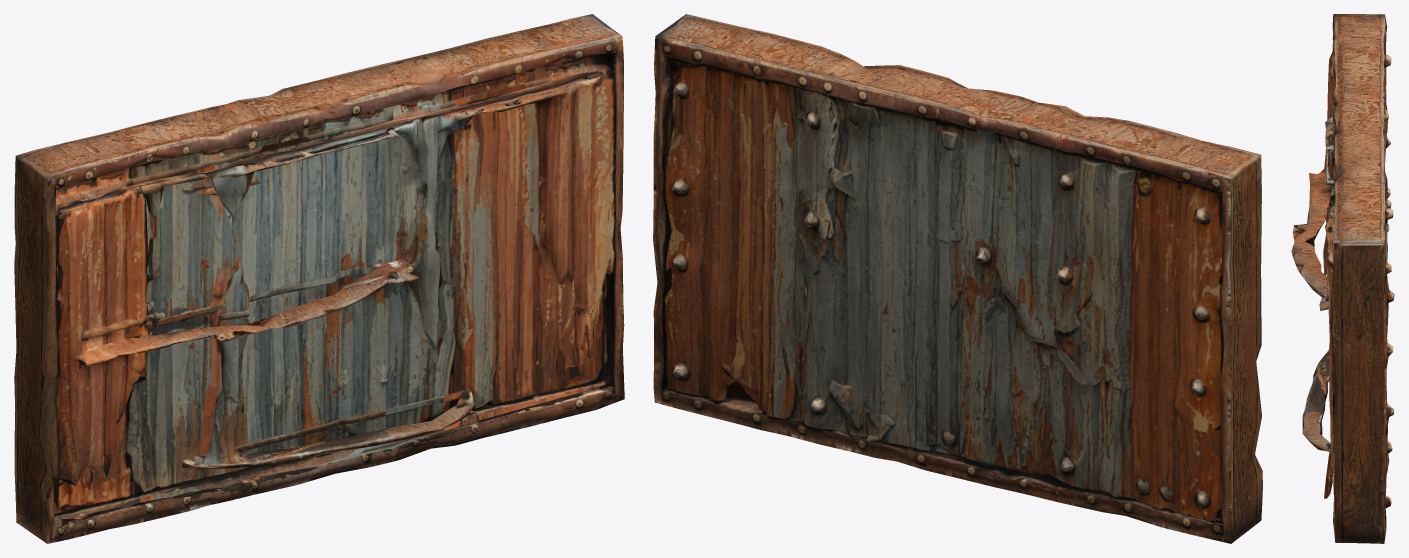
Rendered from Settle_Patch_Corrugated.fbx.
The picture shows the model from 3 angles, left to right: view 1: azimuth 30°, elevation 25°; view 2: azimuth 150°, elevation 25°; view 3: azimuth 270°, elevation 25°; orthographic projection. The views are drawn at different scales.
Parts seen in each view (by area): view 1: texture_mapping; view 2: texture_mapping; view 3: texture_mapping.
Boxes of the visible parts, x1,y1,x2,y2 form: texture_mapping: [14, 14, 624, 543]; texture_mapping: [653, 14, 1262, 543]; texture_mapping: [1291, 14, 1394, 543].
Size of the model in its own units: 1 by 0.1883 by 0.6131.
Materials: 1 (1 with a texture image).
